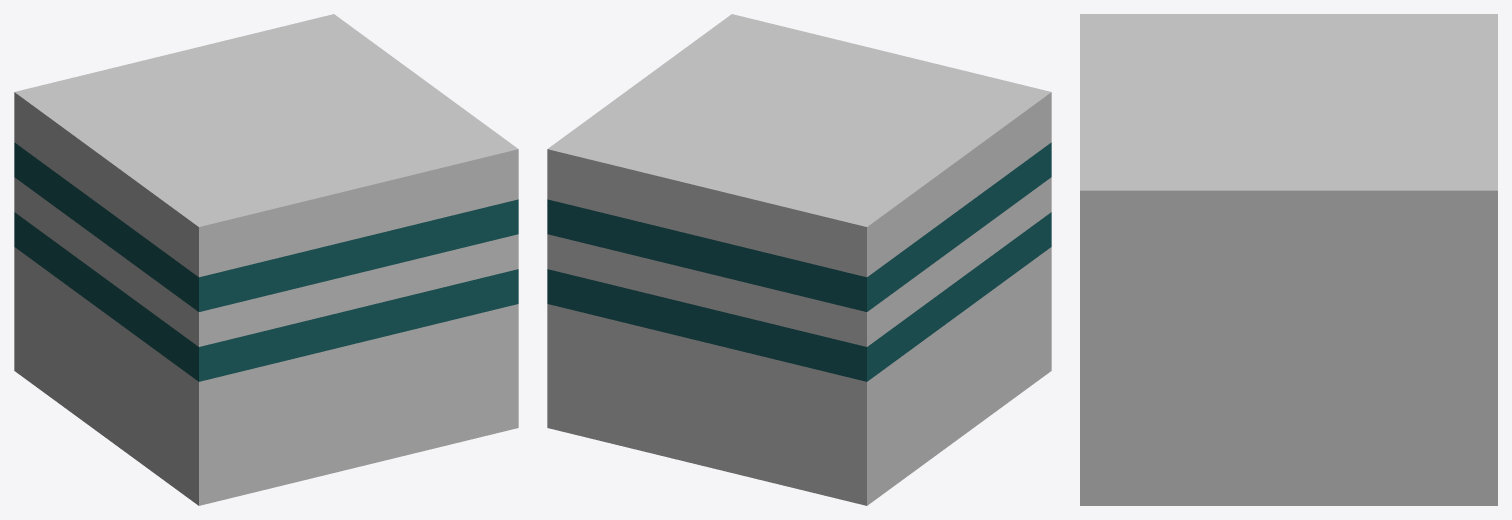
File: Terminal_MiddleEnd.fbx
3 renders of one model, left to right at view 1: azimuth 30°, elevation 25°; view 2: azimuth 150°, elevation 25°; view 3: azimuth 270°, elevation 25°, orthographic. The views are drawn at different scales.
Parts seen in each view (by area): view 1: Terminal_MiddleEnd; view 2: Terminal_MiddleEnd; view 3: Terminal_MiddleEnd.
Part boxes in pixels (bbox=[...]): Terminal_MiddleEnd: bbox=[14, 14, 518, 505]; Terminal_MiddleEnd: bbox=[547, 14, 1051, 505]; Terminal_MiddleEnd: bbox=[1080, 14, 1497, 505].
Size of the model in its own units: 90 by 75 by 90.
